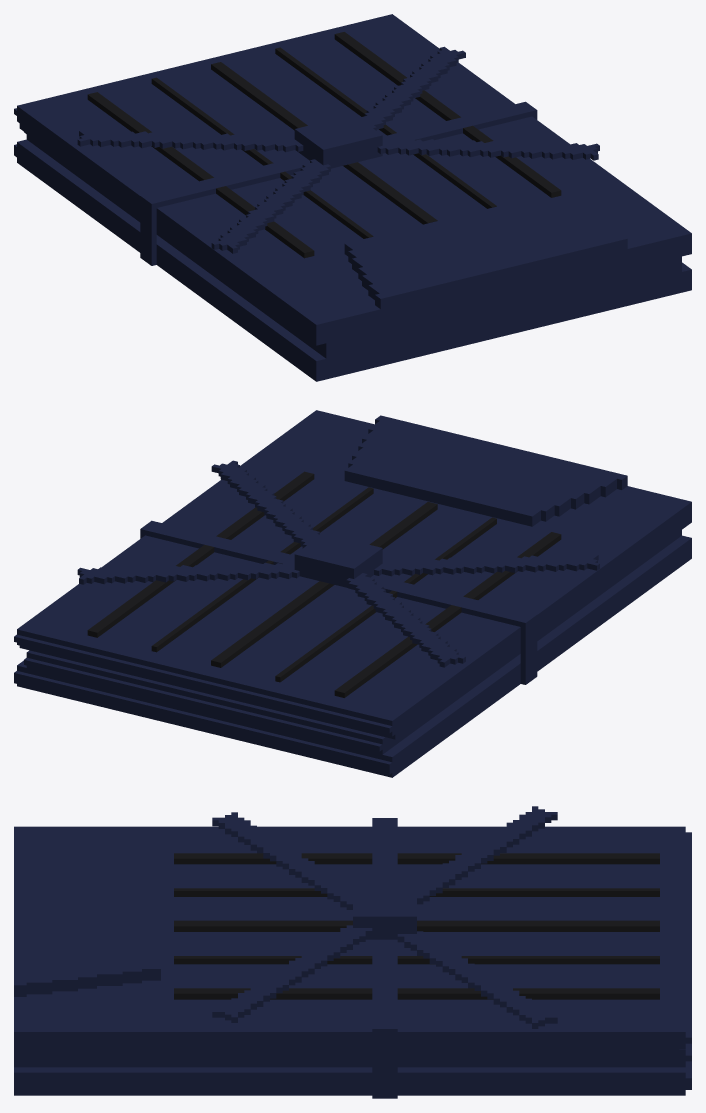
File: hakama.glb
3 renders of one model, top to bottom at view 1: azimuth 30°, elevation 25°; view 2: azimuth 150°, elevation 25°; view 3: azimuth 270°, elevation 25°, orthographic. The views are drawn at different scales.
Parts seen in each view (by area): view 1: hakama:compound; view 2: hakama:compound; view 3: hakama:compound.
Boxes of the visible parts, bbox=[...] form: hakama:compound: bbox=[14, 14, 691, 381]; hakama:compound: bbox=[14, 410, 691, 777]; hakama:compound: bbox=[14, 806, 691, 1098].
Bounding box in the file's own units: 0.312 × 0.064 × 0.424.
